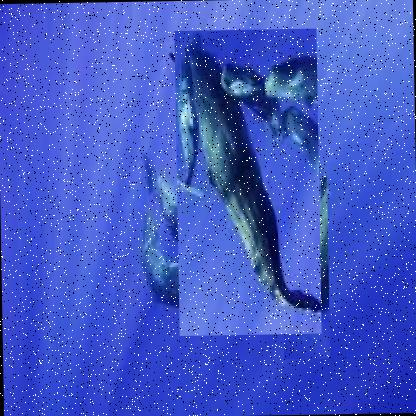sperm_whale: (173, 28, 321, 336), (279, 143, 330, 360)
